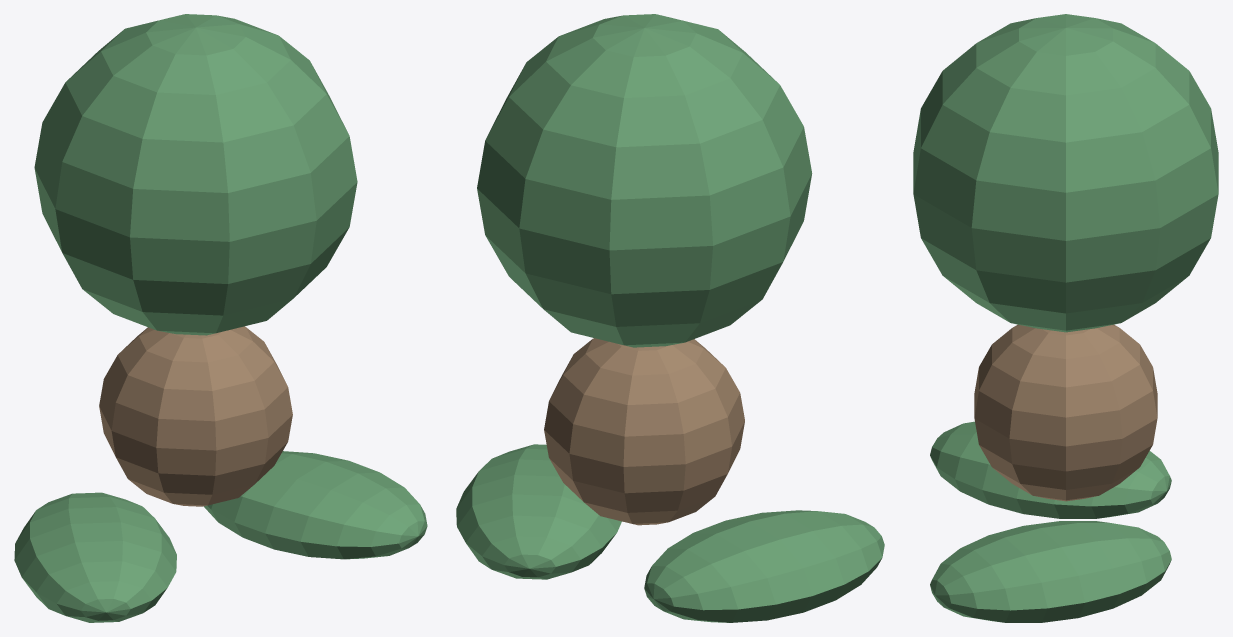
Rendered from ZombieD.fbx.
3 views of the same model, side by side, from view 1: azimuth 30°, elevation 25°; view 2: azimuth 150°, elevation 25°; view 3: azimuth 270°, elevation 25° (orthographic). The views are drawn at different scales.
Parts seen in each view (by area): view 1: pSphere5; view 2: pSphere5; view 3: pSphere5.
Part boxes in pixels (box(x1,y1,x2,y2)): pSphere5: box(14, 14, 427, 622); pSphere5: box(456, 14, 884, 622); pSphere5: box(913, 14, 1218, 622).
Bounding box in the file's own units: 0.6677 × 0.9052 × 0.4755.
